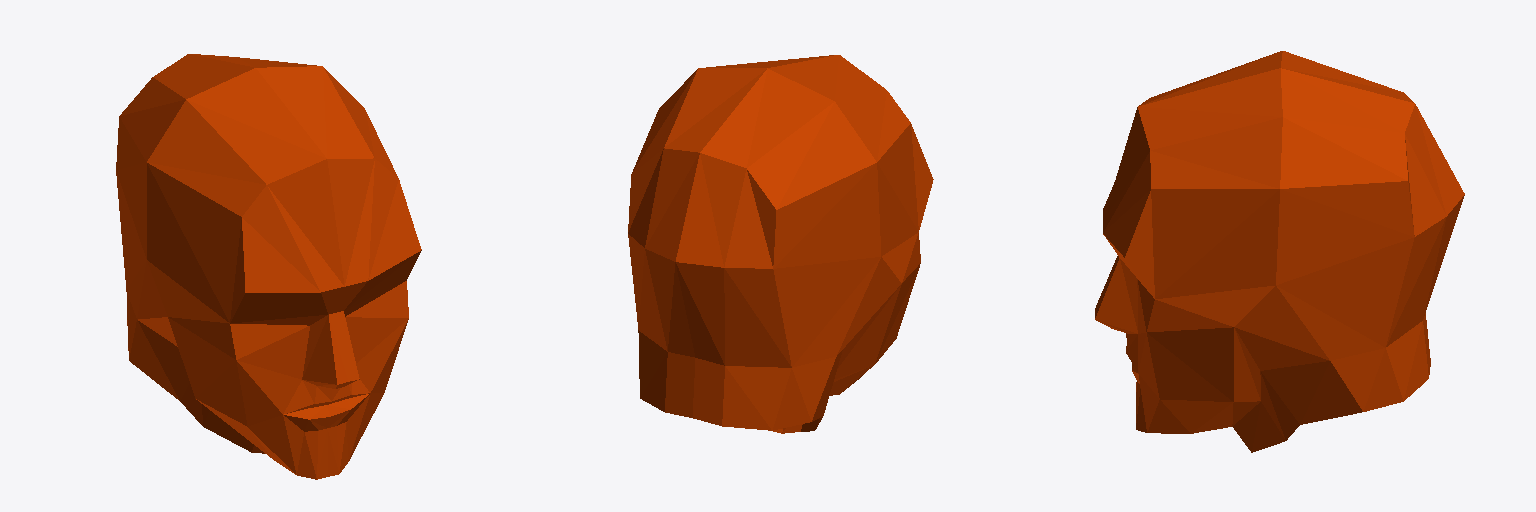
File: sculpture.obj
3 renders of one model, left to right at view 1: azimuth 30°, elevation 25°; view 2: azimuth 150°, elevation 25°; view 3: azimuth 270°, elevation 25°, orthographic.
Visible parts, largest first — view 1: Plane_Plane.000; view 2: Plane_Plane.000; view 3: Plane_Plane.000.
Part boxes in pixels (x1,y1,x2,y2): Plane_Plane.000: (116, 54, 421, 479); Plane_Plane.000: (628, 55, 933, 433); Plane_Plane.000: (1095, 51, 1464, 452).
Size of the model in its own units: 5.05 by 8.15 by 7.27.